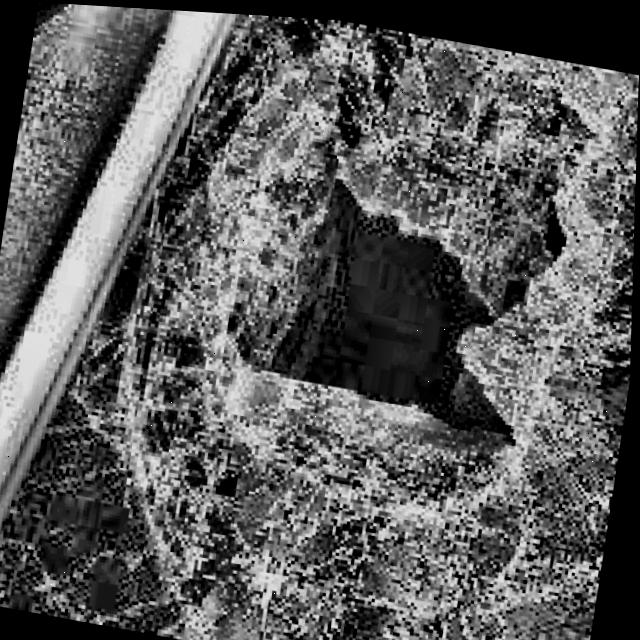glass_shatter: (240, 118, 578, 487), (0, 402, 232, 640)
